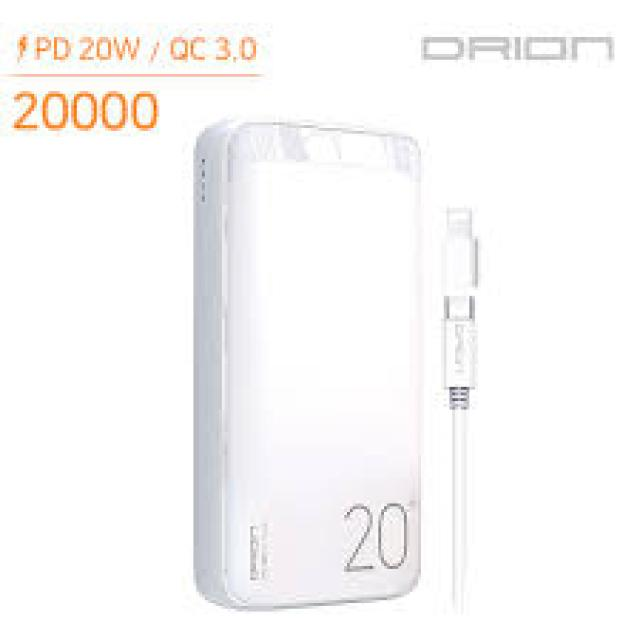portable-charger: (192, 118, 430, 608)
